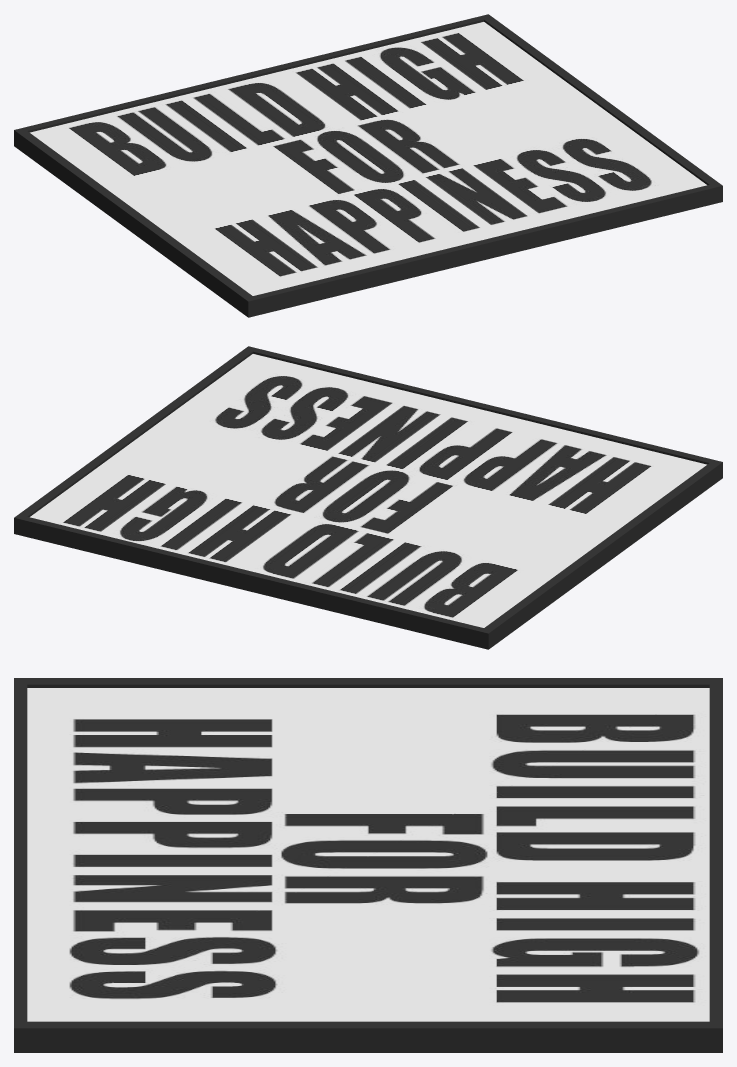
The picture shows the model from 3 angles, top to bottom: view 1: azimuth 30°, elevation 25°; view 2: azimuth 150°, elevation 25°; view 3: azimuth 270°, elevation 25°; orthographic projection. The views are drawn at different scales.
Parts seen in each view (by area): view 1: Plane; view 2: Plane; view 3: Plane.
Part boxes in pixels (x1,y1,x2,y2): Plane: [14, 14, 722, 317]; Plane: [14, 346, 722, 649]; Plane: [14, 678, 722, 1052].
Size of the model in its own units: 1610 by 52.42 by 1377.
Materials: 2 (1 with a texture image).
